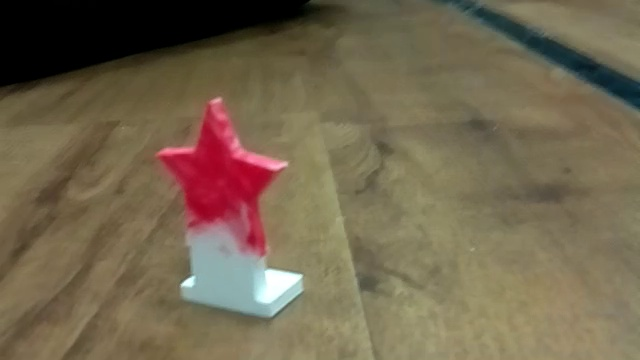star: (142, 95, 311, 323)
